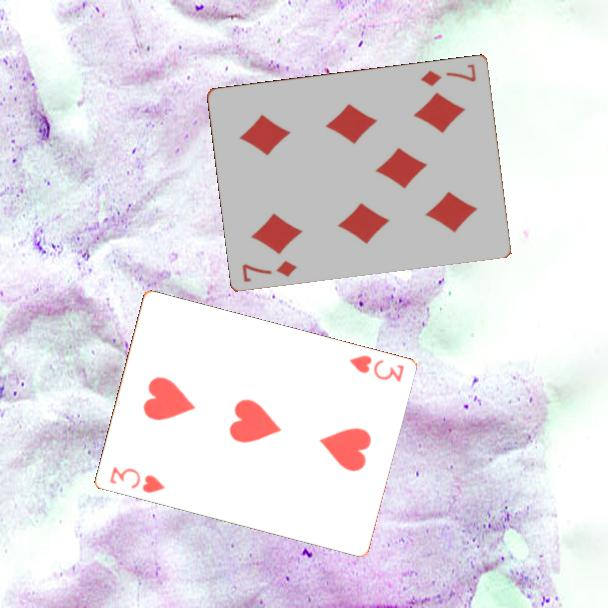d07: (418, 60, 479, 89), (239, 257, 300, 284)
h03: (106, 463, 168, 496), (345, 352, 407, 385)
